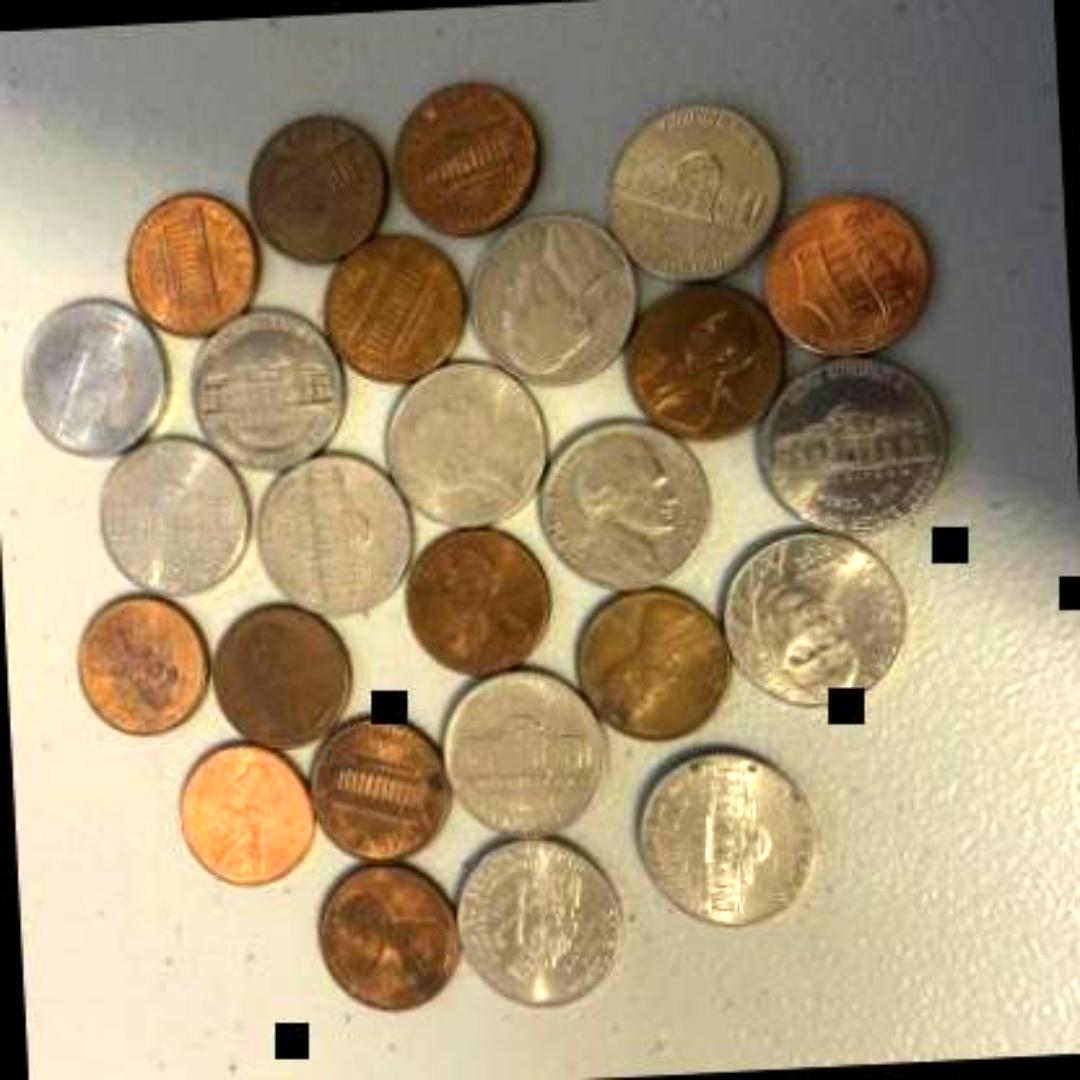Nickel: (714, 526, 918, 714), (754, 349, 954, 538), (630, 741, 818, 933), (598, 94, 788, 282), (460, 206, 640, 386), (451, 828, 627, 1012), (534, 414, 706, 596), (380, 353, 552, 529), (251, 444, 417, 620), (434, 664, 604, 835), (16, 290, 176, 462), (186, 303, 346, 471), (98, 435, 256, 601)
Penny: (758, 184, 938, 356), (620, 274, 782, 440), (386, 74, 544, 240), (399, 517, 557, 677), (569, 583, 729, 741), (310, 854, 464, 1016), (320, 228, 470, 390), (242, 108, 392, 268), (298, 710, 451, 865), (205, 597, 355, 747), (74, 586, 219, 738), (122, 188, 260, 344), (175, 733, 312, 888)
